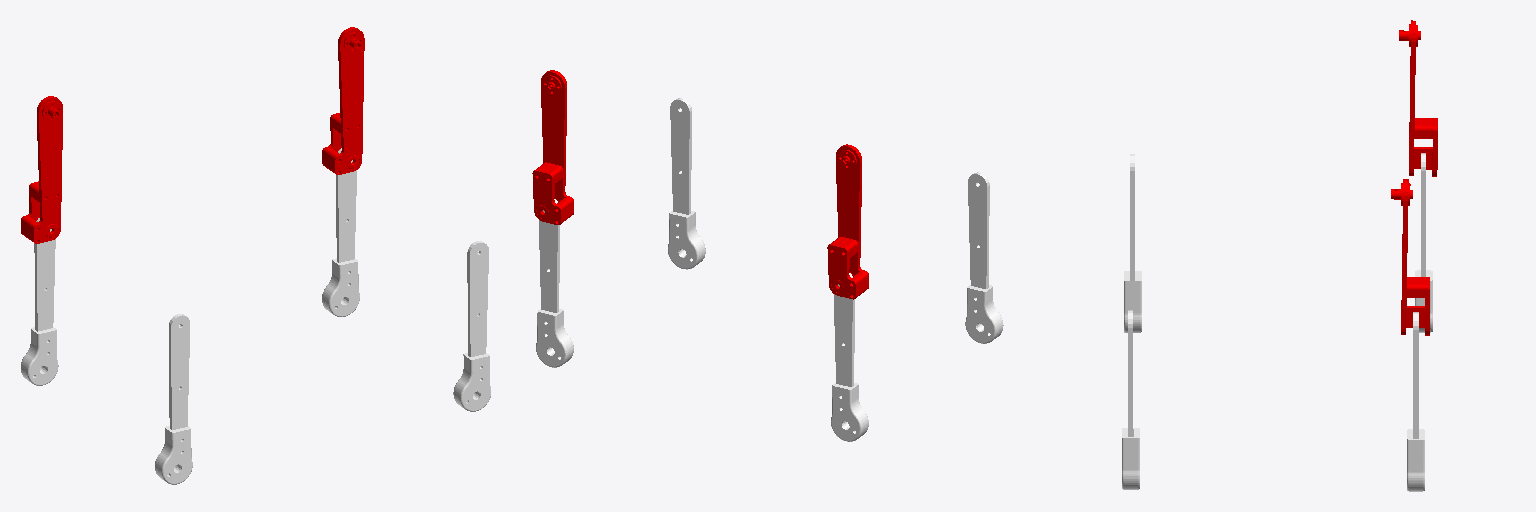
The robot description file, URDF, robot "spot":
<?xml version="1.0" ?>
<robot
  name="spot">


  <link
    name="chassis">
    <inertial>
      <origin
        xyz="0.00236489702334556 -5.91786932752081E-06 -0.0142510828075822"
        rpy="0 0 0" />
      <mass
        value="1.26277058878881" />
      <inertia
        ixx="0.00419953664437585"
        ixy="-5.80918949629586E-09"
        ixz="7.23254112115281E-06"
        iyy="0.00329637735882426"
        iyz="5.41350065733206E-10"
        izz="0.00687786867050381" />
    </inertial>
    <visual>
      <origin
        xyz="0 0 0"
        rpy="0 0 0" />
      <geometry>
        <mesh
          filename="meshes/base_link.STL" />
      </geometry>
      <material
        name="yellow">
        <color
          rgba="1 1 0 1" />
      </material>
    </visual>
    <collision>
      <origin
        xyz="0 0 0"
        rpy="0 0 0" />
      <geometry>
        <mesh
          filename="meshes/base_link.STL" />
      </geometry>
    </collision>
  </link>






  <link
    name="FR_hip_motor">
    <inertial>
      <origin
        xyz="0.0494730376983105 -0.0150434281833299 0.00301418526737343"
        rpy="0 0 0" />
      <mass
        value="0.110796689932406" />
      <inertia
        ixx="4.10359142267942E-05"
        ixy="9.54808544037731E-10"
        ixz="-5.49776572211449E-10"
        iyy="0.00010573669451886"
        iyz="1.80269633038169E-06"
        izz="0.000105542554331478" />
    </inertial>
    <visual>
      <origin
        xyz="0 0 0"
        rpy="0 0 0" />
      <geometry>
        <mesh
          filename="meshes/hip_motor_mirror.STL" />
      </geometry>
      <material
        name="black">
        <color
          rgba="0 0 0 1" />
      </material>
    </visual>
    <collision>
      <origin
        xyz="0 0 0"
        rpy="0 0 0" />
      <geometry>
        <mesh
          filename="meshes/hip_motor_mirror.STL" />
      </geometry>
    </collision>
  </link>


  <joint
    name="FR_hip_motor_2_chassis_joint"
    type="revolute">
    <origin
      xyz="0.1325 -0.0798899999999921 -0.0342976400491808"
      rpy="0 0 0" />
    <parent
      link="chassis" />
    <child
      link="FR_hip_motor" />
    <axis
      xyz="-1 0 0" />
    <limit
      effort="100" velocity="100" lower="-0.873" upper="1.0472" />
  </joint>


  <link
    name="FR_upper_leg">
    <inertial>
      <origin
        xyz="-0.00214105775503126 0.00718603950643992 -0.084916045491464"
        rpy="0 0 0" />
      <mass
        value="0.0381858196620344" />
      <inertia
        ixx="4.56120104484874E-05"
        ixy="-2.39464031883898E-08"
        ixz="-1.71517217998475E-06"
        iyy="4.75905522135306E-05"
        iyz="-6.28798951756866E-07"
        izz="2.56040064315188E-06" />
    </inertial>
    <visual>
      <origin
        xyz="0 0 0"
        rpy="0 0 0" />
      <geometry>
        <mesh
          filename="meshes/R_upper.STL" />
      </geometry>
      <material
        name="red">
        <color
          rgba="1 0 0 1" />
      </material>
    </visual>
    <collision>
      <origin
        xyz="0 0 0"
        rpy="0 0 0" />
      <geometry>
        <mesh
          filename="meshes/R_upper.STL" />
      </geometry>
    </collision>
  </link>


  <joint
    name="FR_upper_leg_2_hip_motor_joint"
    type="revolute">
    <origin
      xyz="0.0269999999999999 -0.0628123830812422 0.0138782034736232"
      rpy="0 0 0" />
    <parent
      link="FR_hip_motor" />
    <child
      link="FR_upper_leg" />
    <axis
      xyz="0 0.999902556615601 -0.0139598450415945" />
    <limit
      effort="100" velocity="100" lower="-1.3" upper="3.4" />
  </joint>


  <link
    name="FR_lower_leg">
    <inertial>
      <origin
        xyz="-0.00334779648407044 0.00988222317821961 -0.120380779073118"
        rpy="0 0 0" />
      <mass
        value="0.0434013554264772" />
      <inertia
        ixx="4.26078627929692E-05"
        ixy="-1.57182517526504E-08"
        ixz="-1.12610032464431E-06"
        iyy="4.48671704652794E-05"
        iyz="-5.7198907909598E-07"
        izz="3.90505278745092E-06" />
    </inertial>
    <visual>
      <origin
        xyz="0 0 0"
        rpy="0 0 0" />
      <geometry>
        <mesh
          filename="meshes/lower.STL" />
      </geometry>
      <material
        name="white">
        <color
          rgba="1 1 1 1" />
      </material>
    </visual>
    <collision>
      <origin
        xyz="0 0 0"
        rpy="0 0 0" />
      <geometry>
        <mesh
          filename="meshes/lower.STL" />
      </geometry>
    </collision>
  </link>


  <joint
    name="FR_lower_leg_2_upper_leg_joint"
    type="revolute">
    <origin
      xyz="0 -0.00994944374978339 -0.13957706811974"
      rpy="0 0 0" />
    <parent
      link="FR_upper_leg" />
    <child
      link="FR_lower_leg" />
    <axis
      xyz="0 0.999902556615601 -0.0139598450415923" />
    <limit
      effort="100" velocity="100" lower="-2.164" upper="0" />
  </joint>


  <link
    name="FL_hip_motor">
    <inertial>
      <origin
        xyz="0.0495269622868718 0.0151217121138406 0.00259304376253863"
        rpy="0 0 0" />
      <mass
        value="0.110796689886985" />
      <inertia
        ixx="4.10359142199375E-05"
        ixy="9.69729499827842E-10"
        ixz="5.2287739474731E-10"
        iyy="0.000105636298090407"
        iyz="-1.805477813767E-06"
        izz="0.00010564295073898" />
    </inertial>
    <visual>
      <origin
        xyz="0 0 0"
        rpy="0 0 0" />
      <geometry>
        <mesh
          filename="meshes/hip_motor.STL" />
      </geometry>
      <material
        name="black">
        <color
          rgba="0 0 0 1" />
      </material>
    </visual>
    <collision>
      <origin
        xyz="0 0 0"
        rpy="0 0 0" />
      <geometry>
        <mesh
          filename="meshes/hip_motor.STL" />
      </geometry>
    </collision>
  </link>


  <joint
    name="FL_hip_motor_2_chassis_joint"
    type="revolute">
    <origin
      xyz="0.1325 0.0798900000000003 -0.034297640049036"
      rpy="0 0 0" />
    <parent
      link="chassis" />
    <child
      link="FL_hip_motor" />
    <axis
      xyz="1 0 0" />
    <limit
      effort="100" velocity="100" lower="-0.873" upper="1.0472" />
  </joint>


  <link
    name="FL_upper_leg">
    <inertial>
      <origin
        xyz="-0.00214102966052523 -0.00955383710019811 -0.0846823076197817"
        rpy="0 0 0" />
      <mass
        value="0.0381858201318091" />
      <inertia
        ixx="4.56120134594677E-05"
        ixy="-2.39468983332409E-08"
        ixz="-1.71516304037832E-06"
        iyy="4.75905522326161E-05"
        iyz="-6.28798317008029E-07"
        izz="2.56039762142872E-06" />
    </inertial>
    <visual>
      <origin
        xyz="0 0 0"
        rpy="0 0 0" />
      <geometry>
        <mesh
          filename="meshes/L_upper.STL" />
      </geometry>
      <material
        name="red">
        <color
          rgba="1 0 0 1" />
      </material>
    </visual>
    <collision>
      <origin
        xyz="0 0 0"
        rpy="0 0 0" />
      <geometry>
        <mesh
          filename="meshes/L_upper.STL" />
      </geometry>
    </collision>
  </link>


  <joint
    name="FL_upper_leg_2_hip_motor_joint"
    type="revolute">
    <origin
      xyz="0.0270000000000001 0.063175339052324 0.0121192629983798"
      rpy="0 0 0" />
    <parent
      link="FL_hip_motor" />
    <child
      link="FL_upper_leg" />
    <axis
      xyz="0 0.9999025566156 -0.013959845041636" />
    <limit
      effort="100" velocity="100" lower="-1.3" upper="3.4" />
  </joint>


  <link
    name="FL_lower_leg">
    <inertial>
      <origin
        xyz="-0.00128752893325759 -0.0132396087168402 -0.120097682803769"
        rpy="0 0 0" />
      <mass
        value="0.0434013551251362" />
      <inertia
        ixx="4.26350835926029E-05"
        ixy="-6.45248605016384E-09"
        ixz="-4.6241549094332E-07"
        iyy="4.48671652118525E-05"
        iyz="-5.72369079427161E-07"
        izz="3.87783728399397E-06" />
    </inertial>
    <visual>
      <origin
        xyz="0 0 0"
        rpy="0 0 0" />
      <geometry>
        <mesh
          filename="meshes/lower.STL" />
      </geometry>
      <material
        name="white">
        <color
          rgba="1 1 1 1" />
      </material>
    </visual>
    <collision>
      <origin
        xyz="0 0 0"
        rpy="0 0 0" />
      <geometry>
        <mesh
          filename="meshes/lower.STL" />
      </geometry>
    </collision>
  </link>


  <joint
    name="FL_lower_leg_2_upper_leg_joint"
    type="revolute">
    <origin
      xyz="0 -0.0165 -0.139800425640405"
      rpy="0 0 0" />
    <parent
      link="FL_upper_leg" />
    <child
      link="FL_lower_leg" />
    <axis
      xyz="0 0.9999025566156 -0.0139598450416295" />
    <limit
      effort="100" velocity="100" lower="-2.164" upper="0" />
  </joint>


  <link
    name="RR_hip_motor">
    <inertial>
      <origin
        xyz="-0.0495361239995728 -0.0121004517164508 0.00333734117665012"
        rpy="0 0 0" />
      <mass
        value="0.126255489368789" />
      <inertia
        ixx="4.20937385671924E-05"
        ixy="9.26212791323576E-10"
        ixz="9.15301981486698E-09"
        iyy="0.000106862025701092"
        iyz="1.80316674432087E-06"
        izz="0.000106677222068073" />
    </inertial>
    <visual>
      <origin
        xyz="0 0 0"
        rpy="0 0 0" />
      <geometry>
        <mesh
          filename="meshes/hip_motor_mirror.STL" />
      </geometry>
      <material
        name="black">
        <color
          rgba="0 0 0 1" />
      </material>
    </visual>
    <collision>
      <origin
        xyz="0 0 0"
        rpy="0 0 0" />
      <geometry>
        <mesh
          filename="meshes/hip_motor_mirror.STL" />
      </geometry>
    </collision>
  </link>


  <joint
    name="RR_hip_motor_2_chassis_joint"
    type="revolute">
    <origin
      xyz="-0.2325 -0.0798900000000018 -0.0342976400491642"
      rpy="0 0 0" />
    <parent
      link="chassis" />
    <child
      link="RR_hip_motor" />
    <axis
      xyz="-1 0 0" />
    <limit
      effort="100" velocity="100" lower="-0.873" upper="1.0472" />
  </joint>


  <link
    name="RR_upper_leg">
    <inertial>
      <origin
        xyz="-0.00214105772880144 0.00837075421052934 -0.0848074541012483"
        rpy="0 0 0" />
      <mass
        value="0.0381858200550615" />
      <inertia
        ixx="4.56120104509481E-05"
        ixy="-5.31957908588165E-13"
        ixz="-1.71533933666234E-06"
        iyy="4.75993310281756E-05"
        iyz="-1.19242074978386E-12"
        izz="2.55162184449551E-06" />
    </inertial>
    <visual>
      <origin
        xyz="0 0 0"
        rpy="0 0 0" />
      <geometry>
        <mesh
          filename="meshes/R_upper.STL" />
      </geometry>
      <material
        name="red">
        <color
          rgba="1 0 0 1" />
      </material>
    </visual>
    <collision>
      <origin
        xyz="0 0 0"
        rpy="0 0 0" />
      <geometry>
        <mesh
          filename="meshes/R_upper.STL" />
      </geometry>
    </collision>
  </link>


  <joint
    name="RR_upper_leg_2_hip_motor_joint"
    type="revolute">
    <origin
      xyz="0.027 -0.0630000000000001 0.013"
      rpy="0 0 0" />
    <parent
      link="RR_hip_motor" />
    <child
      link="RR_upper_leg" />
    <axis
      xyz="0 1 0" />
    <limit
      effort="100" velocity="100" lower="-1.3" upper="3.4" />
  </joint>


  <link
    name="RR_lower_leg">
    <inertial>
      <origin
        xyz="-0.00334779648450076 0.0115617572454009 -0.12023109445058"
        rpy="0 0 0" />
      <mass
        value="0.0434013554072694" />
      <inertia
        ixx="4.26078627989298E-05"
        ixy="3.46629055176671E-12"
        ixz="-1.12621002811449E-06"
        iyy="4.48751560924244E-05"
        iyz="2.96214287940901E-12"
        izz="3.89706717030293E-06" />
    </inertial>
    <visual>
      <origin
        xyz="0 0 0"
        rpy="0 0 0" />
      <geometry>
        <mesh
          filename="meshes/lower.STL" />
      </geometry>
      <material
        name="white">
        <color
          rgba="1 1 1 1" />
      </material>
    </visual>
    <collision>
      <origin
        xyz="0 0 0"
        rpy="0 0 0" />
      <geometry>
        <mesh
          filename="meshes/lower.STL" />
      </geometry>
    </collision>
  </link>


  <joint
    name="RR_lower_leg_2_upper_leg_joint"
    type="revolute">
    <origin
      xyz="0 -0.00799999999999998 -0.139702359950835"
      rpy="0 0 0" />
    <parent
      link="RR_upper_leg" />
    <child
      link="RR_lower_leg" />
    <axis
      xyz="0 1 0" />
    <limit
      effort="100" velocity="100" lower="-2.164" upper="0" />
  </joint>


  <link
    name="RL_hip_motor">
    <inertial>
      <origin
        xyz="-0.0682977197756154 0.00736289871080689 0.00219420910931623"
        rpy="0 0 0" />
      <mass
        value="0.110796690015489" />
      <inertia
        ixx="4.10359143914822E-05"
        ixy="9.62413318054567E-10"
        ixz="5.35910546571565E-10"
        iyy="0.000105686627480097"
        iyz="-1.80445846591125E-06"
        izz="0.000105592621445254" />
    </inertial>
    <visual>
      <origin
        xyz="0 0 0"
        rpy="0 0 0" />
      <geometry>
        <mesh
          filename="meshes/hip_motor.STL" />
      </geometry>
      <material
        name="black">
        <color
          rgba="0 0 0 1" />
      </material>
    </visual>
    <collision>
      <origin
        xyz="0 0 0"
        rpy="0 0 0" />
      <geometry>
        <mesh
          filename="meshes/hip_motor.STL" />
      </geometry>
    </collision>
  </link>


  <joint
    name="RL_hip_motor_2_chassis_joint"
    type="revolute">
    <origin
      xyz="-0.2325 0.0876111412863929 -0.0336879615739561"
      rpy="0 0 0" />
    <parent
      link="chassis" />
    <child
      link="RL_hip_motor" />
    <axis
      xyz="1 0 0" />
    <limit
      effort="100" velocity="100" lower="-0.873" upper="1.0472" />
  </joint>


  <link
    name="RL_upper_leg">
    <inertial>
      <origin
        xyz="-0.0209657117362281 -0.0160918954585264 -0.0854171046294276"
        rpy="0 0 0" />
      <mass
        value="0.0381858200550616" />
      <inertia
        ixx="4.5612013465939E-05"
        ixy="-1.15444746288948E-12"
        ixz="-1.7153302049211E-06"
        iyy="4.75993310281756E-05"
        iyz="-5.14326205635148E-13"
        izz="2.55161882950459E-06" />
    </inertial>
    <visual>
      <origin
        xyz="0 0 0"
        rpy="0 0 0" />
      <geometry>
        <mesh
          filename="meshes/L_upper.STL" />
      </geometry>
      <material
        name="red">
        <color
          rgba="1 0 0 1" />
      </material>
    </visual>
    <collision>
      <origin
        xyz="0 0 0"
        rpy="0 0 0" />
      <geometry>
        <mesh
          filename="meshes/L_upper.STL" />
      </geometry>
    </collision>
  </link>


  <joint
    name="RL_upper_leg_2_hip_motor_joint"
    type="revolute">
    <origin
      xyz="0.027 0.063 0.0130000000000001"
      rpy="0 0 0" />
    <parent
      link="RL_hip_motor" />
    <child
      link="RL_upper_leg" />
    <axis
      xyz="0 1 0" />
    <limit
      effort="100" velocity="100" lower="-1.3" upper="3.4" />
  </joint>


  <link
    name="RL_lower_leg">
    <inertial>
      <origin
        xyz="-0.0201122110084878 -0.0192829148462543 -0.120880481432438"
        rpy="0 0 0" />
      <mass
        value="0.0434013551054436" />
      <inertia
        ixx="4.26350835988829E-05"
        ixy="3.39146873072345E-12"
        ixz="-4.62460518016543E-07"
        iyy="4.48751561449661E-05"
        iyz="2.92422848361983E-12"
        izz="3.86984636070521E-06" />
    </inertial>
    <visual>
      <origin
        xyz="0 0 0"
        rpy="0 0 0" />
      <geometry>
        <mesh
          filename="meshes/lower.STL" />
      </geometry>
      <material
        name="white">
        <color
          rgba="1 1 1 1" />
      </material>
    </visual>
    <collision>
      <origin
        xyz="0 0 0"
        rpy="0 0 0" />
      <geometry>
        <mesh
          filename="meshes/lower.STL" />
      </geometry>
    </collision>
  </link>


  <joint
    name="RL_lower_leg_2_upper_leg_joint"
    type="revolute">
    <origin
      xyz="0 -0.0165 -0.1397"
      rpy="0 0 0" />
    <parent
      link="RL_upper_leg" />
    <child
      link="RL_lower_leg" />
    <axis
      xyz="0 1 0" />
    <limit
      effort="100" velocity="100" lower="-2.164" upper="0" />
  </joint>


  <link
    name="toeRL">
    <contact>
      <friction_anchor/>
      <stiffness
        value="30000.0" />
      <damping
        value="1000.0" />
      <spinning_friction
        value="0.1" />
      <lateral_friction
        value="1.0" />
    </contact>
    <visual>
      <origin
        rpy="0 0 0" xyz="0 0 0 "/>
      <geometry>
        <sphere
          radius="0.0 "/>
      </geometry>
      <material
        name="black">
          <color
            rgba="0 0 0 1" />
      </material>
    </visual>
    <collision>
      <origin
        rpy="0 0 0" xyz="0 0 0"/>
      <geometry>
        <sphere radius="0.03"/>
      </geometry>
    </collision>
    <inertial>
      <mass
        value="0.1" />
      <inertia
        ixx="0.000025" ixy="0" ixz="0" iyy="0.000025" iyz="0" izz="0.000025" />
    </inertial>
  </link>

  <joint
    name="jtoeRL"
    type="fixed">
    <parent
      link="RL_lower_leg" />
    <child
      link="toeRL" />
    <origin
      xyz="-0.0072 0.01 -0.1625" />
    <dynamics
      damping="0.0" friction="0.0" />
  </joint>


  <link
    name="toeRR">
    <contact>
      <friction_anchor/>
      <stiffness
        value="30000.0" />
      <damping
        value="1000.0" />
      <spinning_friction
        value="0.1" />
      <lateral_friction
        value="1.0" />
    </contact>
    <visual>
      <origin
        rpy="0 0 0" xyz="0 0 0 "/>
      <geometry>
        <sphere
          radius="0.0 "/>
      </geometry>
      <material
        name="black">
          <color
            rgba="0 0 0 1" />
      </material>
    </visual>
    <collision>
      <origin
        rpy="0 0 0" xyz="0 0 0"/>
      <geometry>
        <sphere radius="0.03"/>
      </geometry>
    </collision>
    <inertial>
      <mass
        value="0.1" />
      <inertia
        ixx="0.000025" ixy="0" ixz="0" iyy="0.000025" iyz="0" izz="0.000025" />
    </inertial>
  </link>

  <joint
    name="jtoeRR"
    type="fixed">
    <parent
      link="RR_lower_leg" />
    <child
      link="toeRR" />
    <origin
      xyz="-0.0072 0.01 -0.1625" />
    <dynamics
      damping="0.0" friction="0.0" />
  </joint>


  <link
    name="toeFL">
    <contact>
      <friction_anchor/>
      <stiffness
        value="30000.0" />
      <damping
        value="1000.0" />
      <spinning_friction
        value="0.1" />
      <lateral_friction
        value="1.0" />
    </contact>
    <visual>
      <origin
        rpy="0 0 0" xyz="0 0 0 "/>
      <geometry>
        <sphere
          radius="0.0 "/>
      </geometry>
      <material
        name="black">
          <color
            rgba="0 0 0 1" />
      </material>
    </visual>
    <collision>
      <origin
        rpy="0 0 0" xyz="0 0 0"/>
      <geometry>
        <sphere radius="0.03"/>
      </geometry>
    </collision>
    <inertial>
      <mass
        value="0.1" />
      <inertia
        ixx="0.000025" ixy="0" ixz="0" iyy="0.000025" iyz="0" izz="0.000025" />
    </inertial>
  </link>

  <joint
    name="jtoeFL"
    type="fixed">
    <parent
      link="FL_lower_leg" />
    <child
      link="toeFL" />
    <origin
      xyz="-0.0072 0.01 -0.1625" />
    <dynamics
      damping="0.0" friction="0.0" />
  </joint>


  <link
    name="toeFR">
    <contact>
      <friction_anchor/>
      <stiffness
        value="30000.0" />
      <damping
        value="1000.0" />
      <spinning_friction
        value="0.1" />
      <lateral_friction
        value="1.0" />
    </contact>
    <visual>
      <origin
        rpy="0 0 0" xyz="0 0 0 "/>
      <geometry>
        <sphere
          radius="0.0 "/>
      </geometry>
      <material
        name="black">
          <color
            rgba="0 0 0 1" />
      </material>
    </visual>
    <collision>
      <origin
        rpy="0 0 0" xyz="0 0 0"/>
      <geometry>
        <sphere radius="0.03"/>
      </geometry>
    </collision>
    <inertial>
      <mass
        value="0.1" />
      <inertia
        ixx="0.000025" ixy="0" ixz="0" iyy="0.000025" iyz="0" izz="0.000025" />
    </inertial>
  </link>

  <joint
    name="jtoeFR"
    type="fixed">
    <parent
      link="FR_lower_leg" />
    <child
      link="toeFR" />
    <origin
      xyz="-0.0072 0.01 -0.1625" />
    <dynamics
      damping="0.0" friction="0.0" />
  </joint>
</robot>

--- What the picture shows (computed from the rendered views, not written in the file) ---
3 views of the same robot in one strip: view 1: azimuth 30°, elevation 25°; view 2: azimuth 150°, elevation 25°; view 3: azimuth 270°, elevation 25° (orthographic).
Model spot with 17 links and 16 joints (12 revolute, 4 fixed), rooted at chassis, posed every joint at zero.
Links seen in each view (by area): view 1: FL_upper_leg, RL_upper_leg, FR_lower_leg, RR_lower_leg, FL_lower_leg, RL_lower_leg; view 2: FL_upper_leg, RL_upper_leg, FR_lower_leg, RR_lower_leg, RL_lower_leg, FL_lower_leg; view 3: RL_upper_leg, FL_upper_leg, FL_lower_leg, FR_lower_leg, RR_lower_leg, RL_lower_leg.
Link boxes in pixels (left/top/right/bottom): FL_upper_leg: left=322, top=27, right=364, bottom=174; RL_upper_leg: left=21, top=96, right=62, bottom=243; FR_lower_leg: left=453, top=241, right=490, bottom=411; RR_lower_leg: left=155, top=314, right=192, bottom=484; FL_lower_leg: left=322, top=148, right=359, bottom=316; RL_lower_leg: left=21, top=218, right=58, bottom=385; FL_upper_leg: left=532, top=70, right=573, bottom=224; RL_upper_leg: left=827, top=144, right=868, bottom=299; FR_lower_leg: left=668, top=98, right=705, bottom=269; RR_lower_leg: left=965, top=172, right=1003, bottom=343; RL_lower_leg: left=831, top=273, right=868, bottom=441; FL_lower_leg: left=536, top=199, right=573, bottom=367; RL_upper_leg: left=1399, top=20, right=1437, bottom=176; FL_upper_leg: left=1391, top=179, right=1429, bottom=335; FL_lower_leg: left=1407, top=312, right=1424, bottom=491; FR_lower_leg: left=1122, top=310, right=1139, bottom=489; RR_lower_leg: left=1124, top=154, right=1141, bottom=332; RL_lower_leg: left=1415, top=153, right=1432, bottom=332.
Bounding box of the posed robot: 0.4059 × 0.3099 × 0.3388 m (x, y, z).
6 mesh visuals loaded from 6 distinct referenced files (2 binary STL); not drawn: 7 (reference not matched to a file when rendering).
